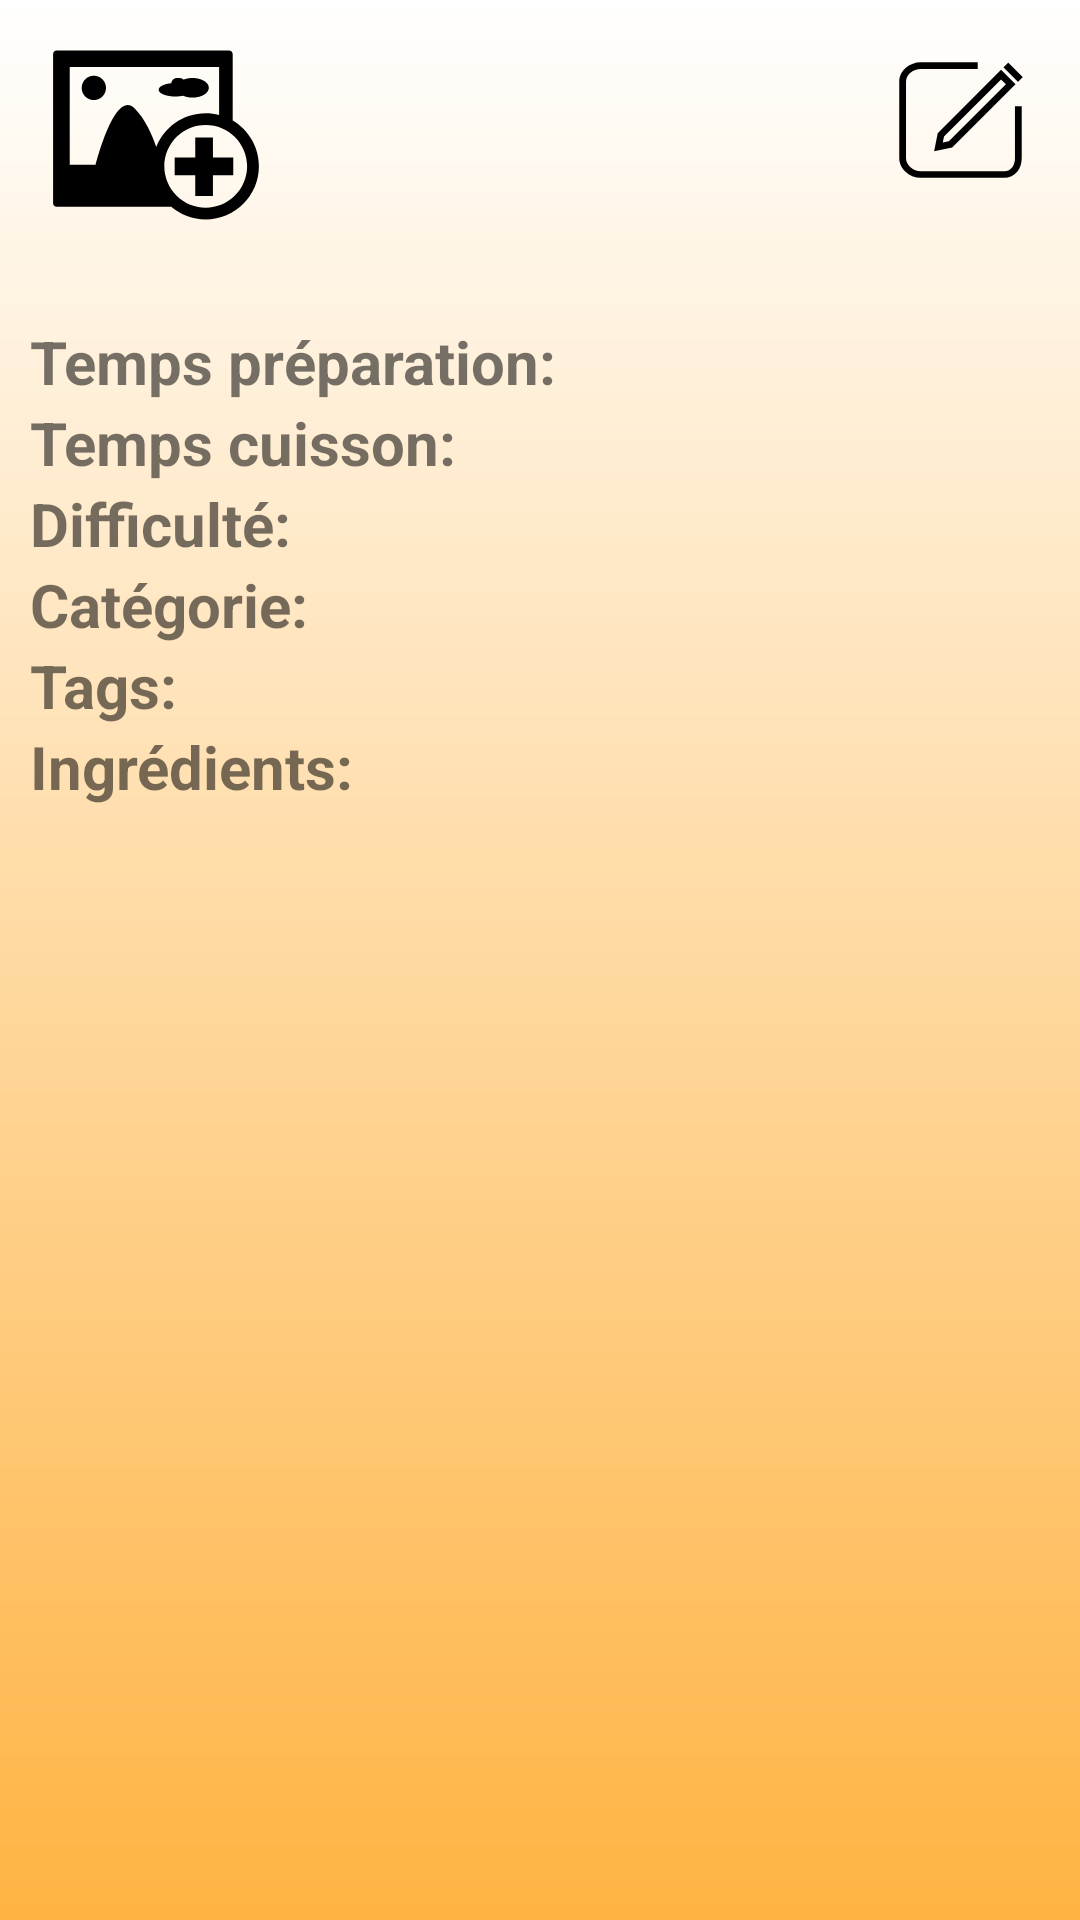

Point at icon controls on the screen. Image size 1080 × 1920, points as (x=x, y=y).
gallery: (x=156, y=135)
modif: (x=961, y=136)
